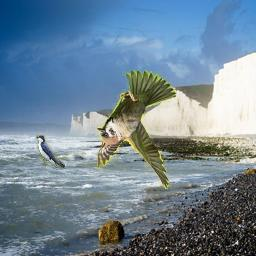Sparrow: (97, 70, 176, 191)
Swallow: (36, 135, 65, 168)
